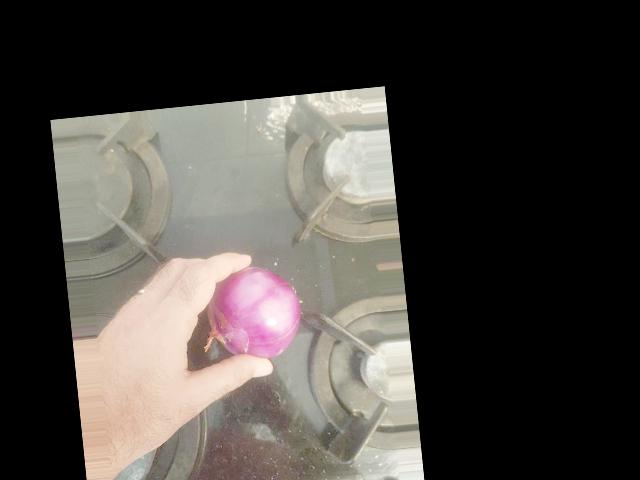onion: (211, 265, 297, 360)
